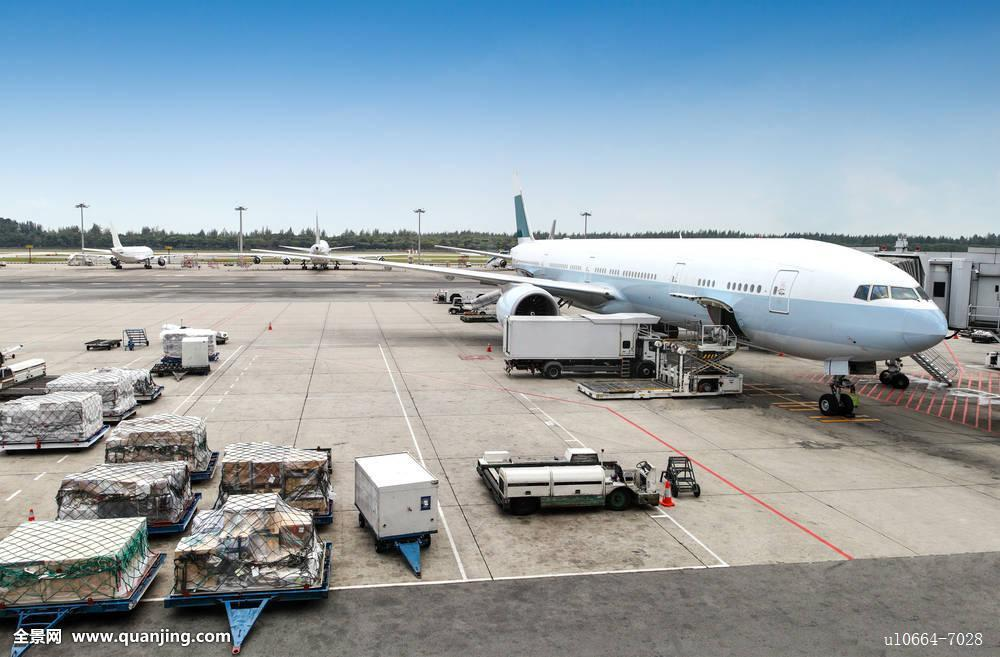airplane: (462, 188, 955, 443), (267, 212, 360, 269), (82, 222, 168, 269)
